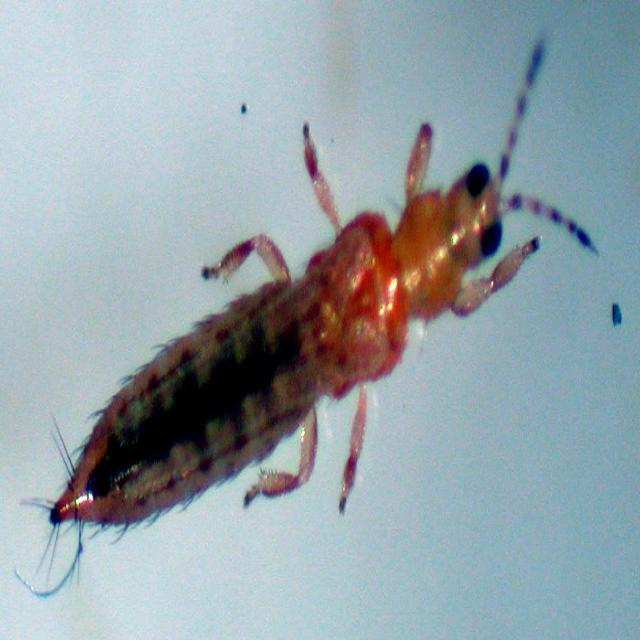Thrip-Adult-: (23, 25, 611, 571)
